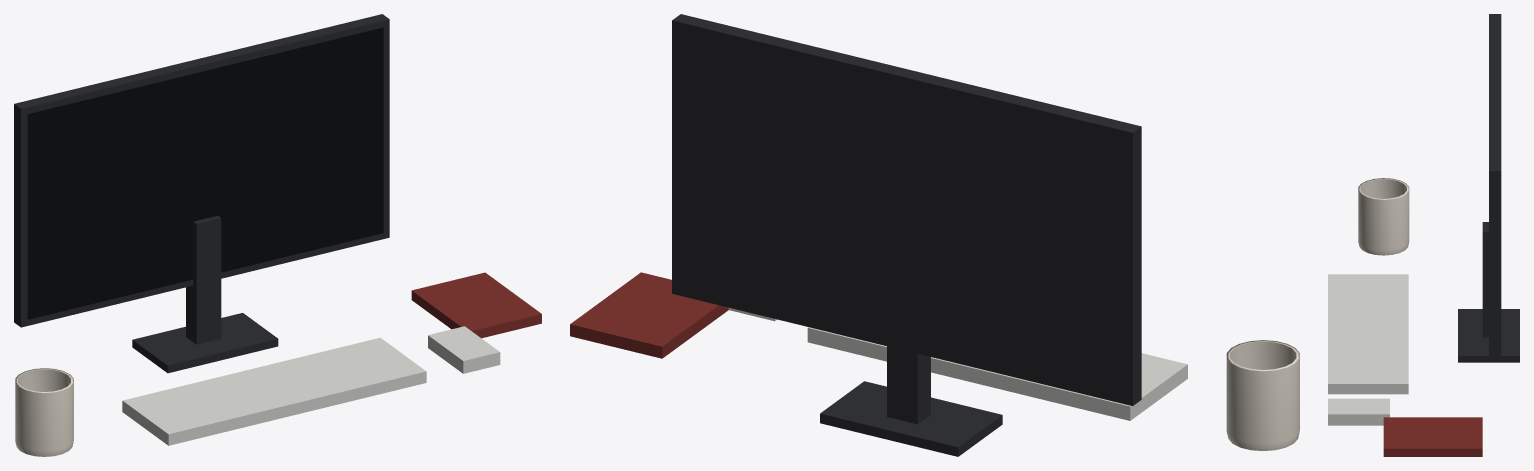
The model's file is M3D-KIT-set.glb.
The picture shows the model from 3 angles, left to right: view 1: azimuth 30°, elevation 25°; view 2: azimuth 150°, elevation 25°; view 3: azimuth 270°, elevation 25°; orthographic projection. The views are drawn at different scales.
Parts seen in each view (by area): view 1: M3D-KIT-set; view 2: M3D-KIT-set; view 3: M3D-KIT-set.
Part boxes in pixels (<box>): M3D-KIT-set: <box>14,14,541,456</box>; M3D-KIT-set: <box>570,14,1299,456</box>; M3D-KIT-set: <box>1328,14,1519,456</box>.
Size of the model in its own units: 0.852 by 0.44 by 0.31.
